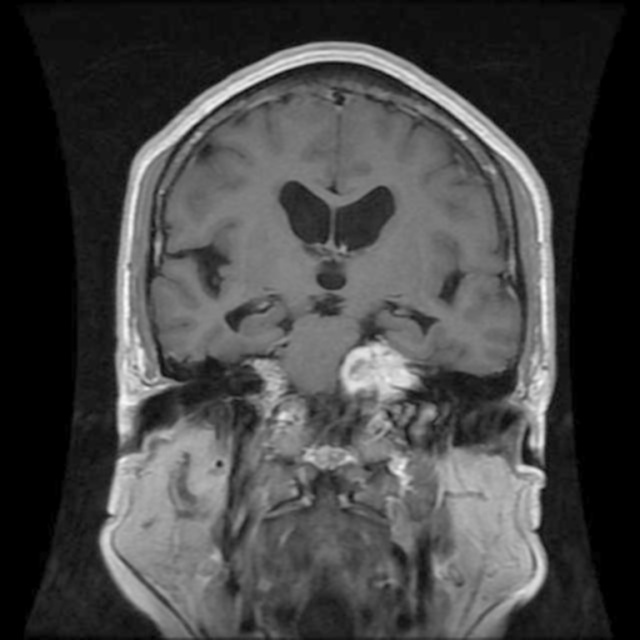meningioma tumor: (332, 332, 442, 428)
